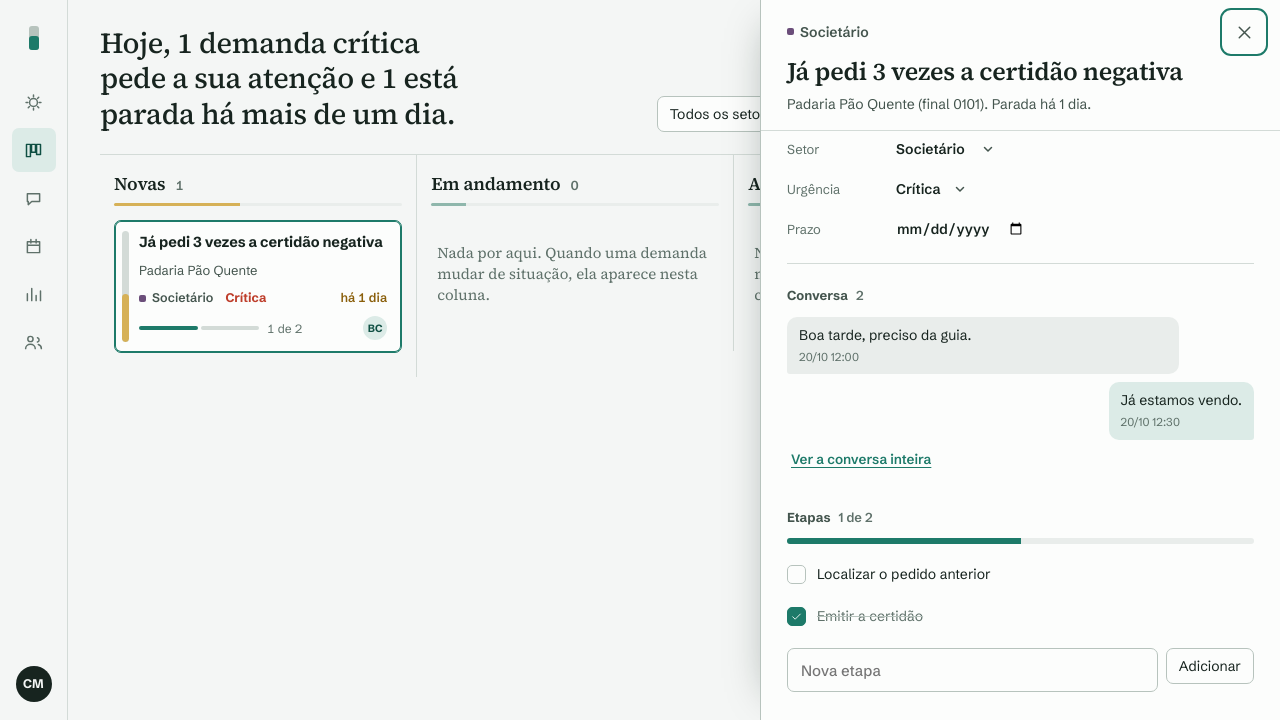
it: demand drawer: steps › adds a step
The width and height of the screenshot is (1280, 720).
(page scrolled)
Type "Responder ao cliente" into the field labelled "Nova etapa". click: (972, 670)
box: x1=787 y1=648 x2=1158 y2=692
Then press Enter
(page scrolled)
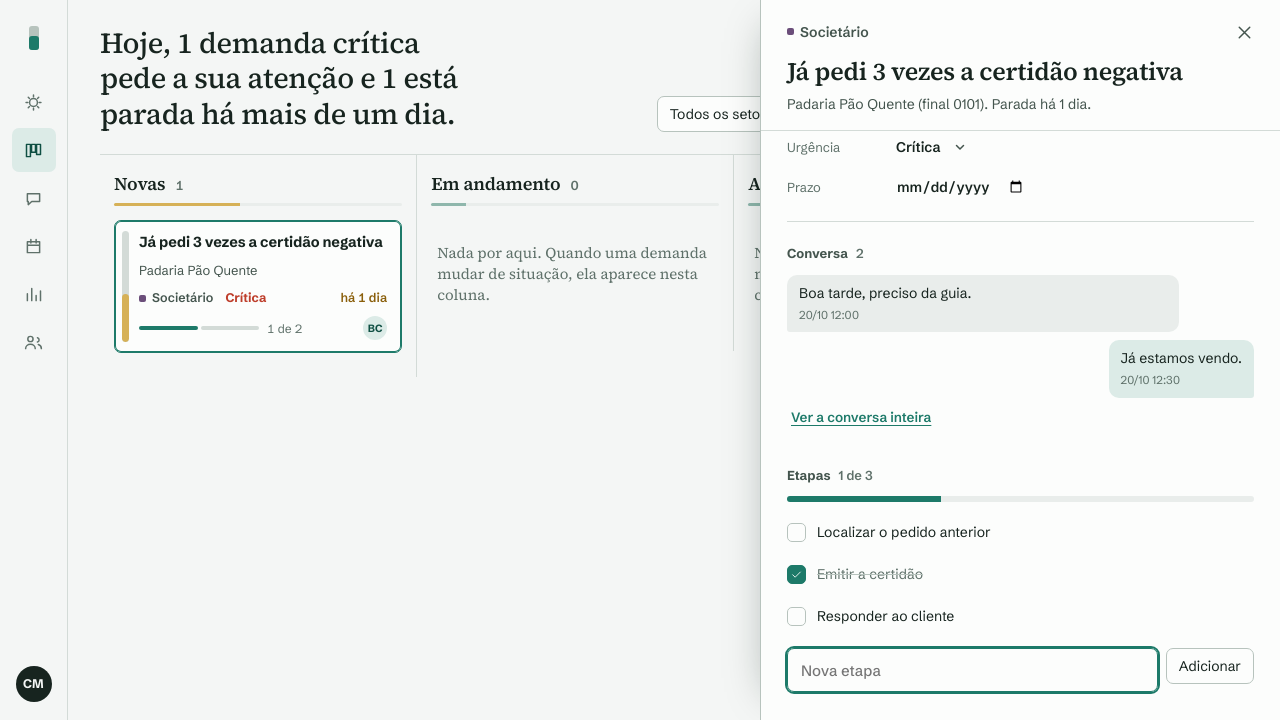
Check: the checkbox labelled "Responder ao cliente" is shown, box x1=779 y1=596 x2=1246 y2=636
